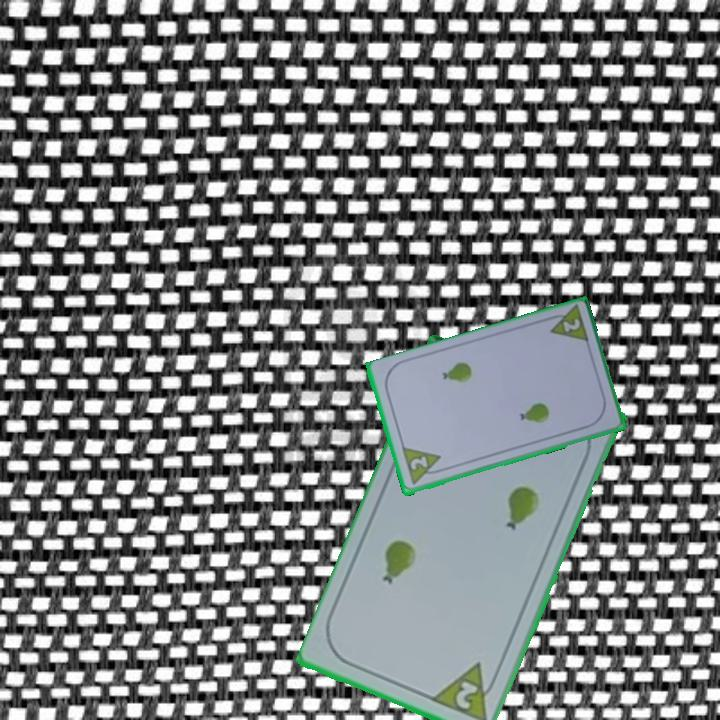2p: (542, 303, 592, 347), (452, 677, 482, 713), (406, 453, 430, 473)
